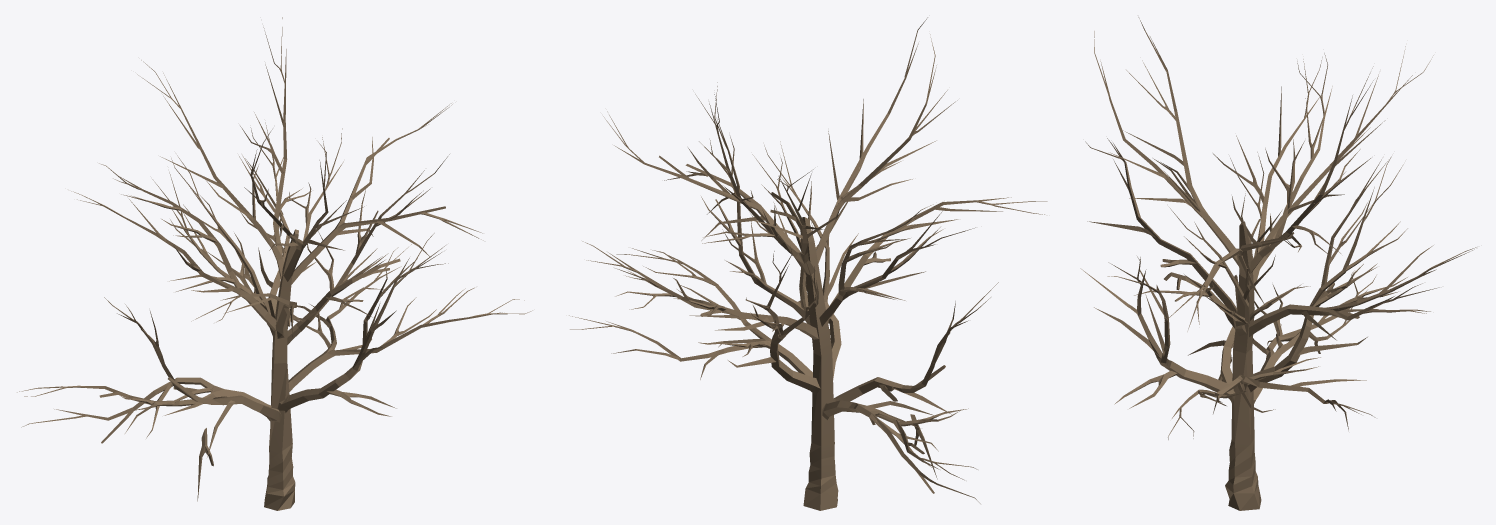
File: tree_bare_a_7.FBX
3 renders of one model, left to right at view 1: azimuth 30°, elevation 25°; view 2: azimuth 150°, elevation 25°; view 3: azimuth 270°, elevation 25°, orthographic. The views are drawn at different scales.
Parts seen in each view (by area): view 1: tree_bare_a_7; view 2: tree_bare_a_7; view 3: tree_bare_a_7.
Boxes of the visible parts, <box> form: tree_bare_a_7: <box>17,17,532,510</box>; tree_bare_a_7: <box>569,17,1047,510</box>; tree_bare_a_7: <box>1080,17,1476,510</box>.
Bounding box in the file's own units: 9.25 × 8.87 × 6.99.
